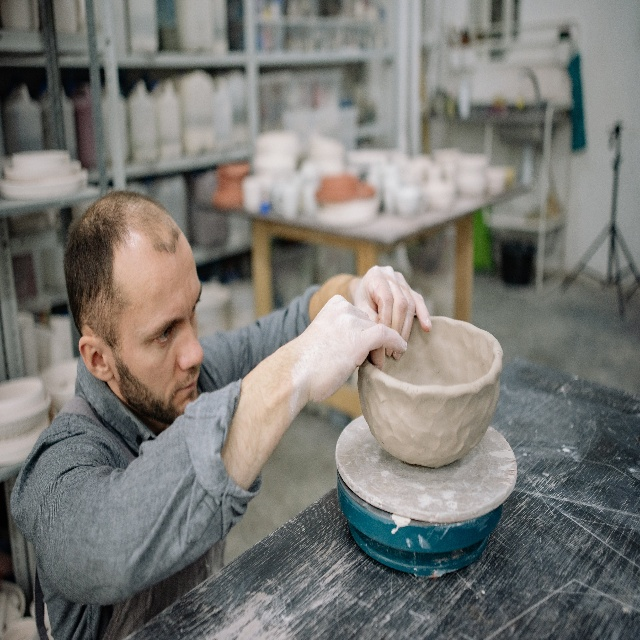Sin_guantes: (301, 294, 407, 404), (352, 264, 432, 361)
